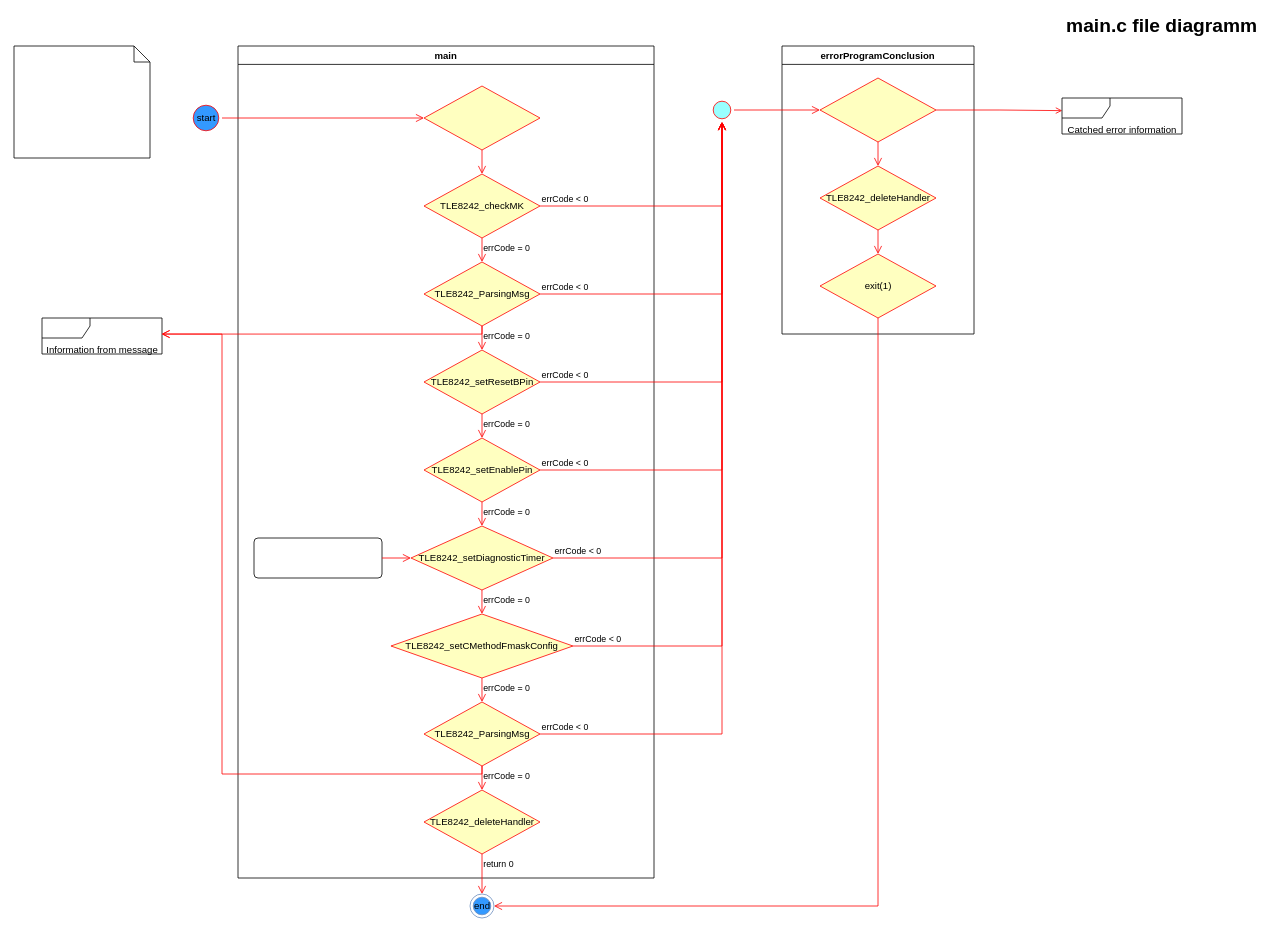
Image size: 1276x932. Some labels were removed from this diagram. Each missing label, with the box of its shape:
call: (709, 97, 734, 122)
enum TLE8242_DiagnosticTimer_t dTimer: (253, 537, 382, 578)
errCode < 0 - Error cathed errCode = 0 - Function worked successfully: (13, 45, 150, 158)
Stderr: (1061, 97, 1182, 134)
Stdout: (41, 317, 162, 354)
TLE8242_createHandler: (423, 85, 540, 150)
TLE8242_errorHandler: (819, 77, 936, 142)
